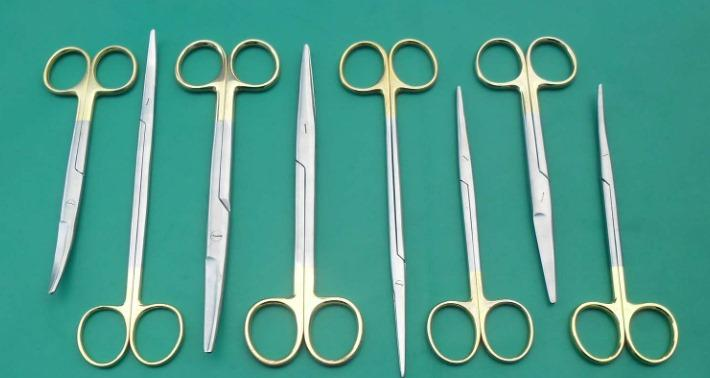Curved Mayo: (28, 27, 138, 297)
Metzenbaum Sciccors: (76, 28, 189, 374), (338, 38, 436, 378)
